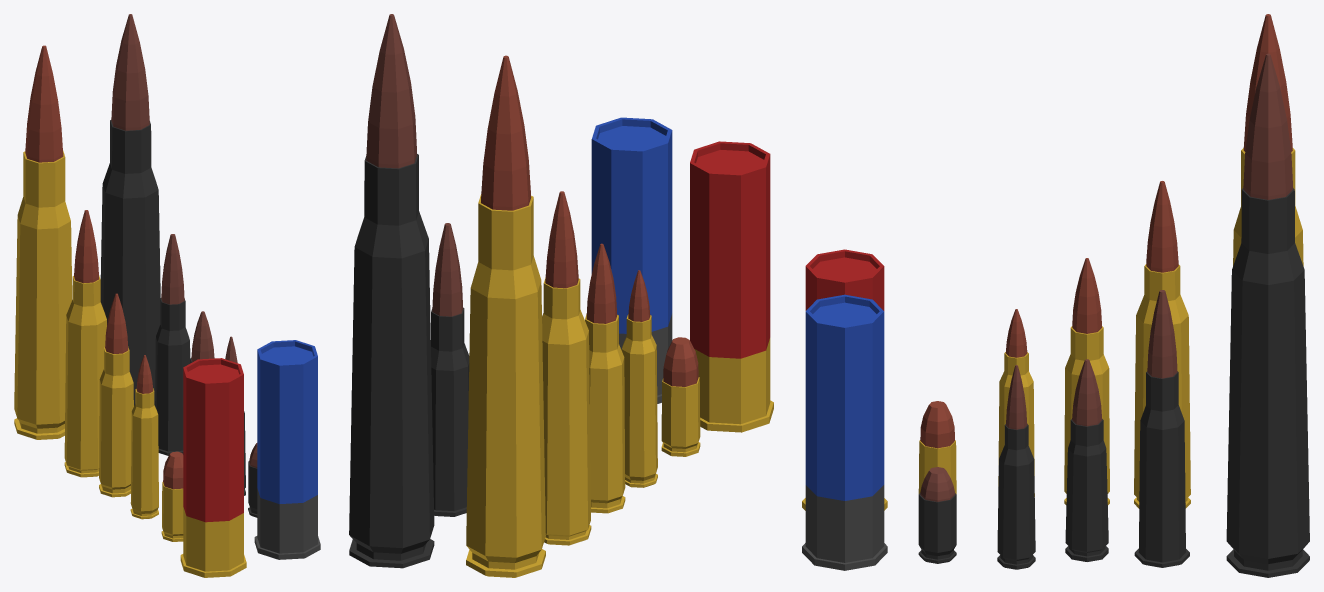
File: Loose Ammo.glb
3 renders of one model, left to right at view 1: azimuth 30°, elevation 25°; view 2: azimuth 150°, elevation 25°; view 3: azimuth 270°, elevation 25°, orthographic. The views are drawn at different scales.
Parts seen in each view (by area): view 1: 50 BMG, 12.7x108, 12 Gauge_Blue, 12 Gauge, 338 Lapua, 7.62x51, 7.62x54R, 5.56x45, 9x19, 7.62x39, 9x18; view 2: 12.7x108, 50 BMG, 12 Gauge, 12 Gauge_Blue, 338 Lapua, 7.62x54R, 7.62x51, 5.56x45, 9x19; view 3: 12.7x108, 12 Gauge_Blue, 7.62x54R, 338 Lapua, 7.62x39, 5.45x39, 7.62x51, 12 Gauge, 9x18, 50 BMG, 5.56x45, 9x19.
Boxes of the visible parts, x1=… form: 50 BMG: x1=14, y1=45, x2=72, y2=439; 12.7x108: x1=100, y1=14, x2=160, y2=405; 12 Gauge_Blue: x1=254, y1=340, x2=320, y2=559; 12 Gauge: x1=180, y1=358, x2=246, y2=577; 338 Lapua: x1=64, y1=210, x2=106, y2=477; 7.62x51: x1=99, y1=293, x2=133, y2=497; 7.62x54R: x1=155, y1=234, x2=190, y2=455; 5.56x45: x1=130, y1=355, x2=158, y2=519; 9x19: x1=161, y1=451, x2=183, y2=541; 7.62x39: x1=190, y1=311, x2=214, y2=363; 9x18: x1=248, y1=443, x2=257, y2=517; 12.7x108: x1=349, y1=14, x2=434, y2=568; 50 BMG: x1=466, y1=55, x2=545, y2=577; 12 Gauge: x1=690, y1=141, x2=773, y2=432; 12 Gauge_Blue: x1=591, y1=117, x2=672, y2=403; 338 Lapua: x1=542, y1=191, x2=591, y2=545; 7.62x54R: x1=431, y1=223, x2=469, y2=516; 7.62x51: x1=585, y1=243, x2=625, y2=513; 5.56x45: x1=621, y1=270, x2=657, y2=487; 9x19: x1=661, y1=337, x2=700, y2=456; 12.7x108: x1=1226, y1=53, x2=1309, y2=577; 12 Gauge_Blue: x1=802, y1=294, x2=887, y2=570; 7.62x54R: x1=1134, y1=290, x2=1189, y2=567; 338 Lapua: x1=1134, y1=181, x2=1190, y2=508; 7.62x39: x1=1065, y1=359, x2=1108, y2=561; 5.45x39: x1=997, y1=365, x2=1035, y2=569; 7.62x51: x1=1064, y1=258, x2=1109, y2=504; 12 Gauge: x1=802, y1=249, x2=887, y2=510; 9x18: x1=918, y1=467, x2=956, y2=563; 50 BMG: x1=1233, y1=14, x2=1303, y2=266; 5.56x45: x1=998, y1=309, x2=1034, y2=496; 9x19: x1=918, y1=401, x2=956, y2=493.
Size of the model in its own units: 0.0548 by 0.147 by 0.1331.
Materials: 1 (1 with a texture image).
